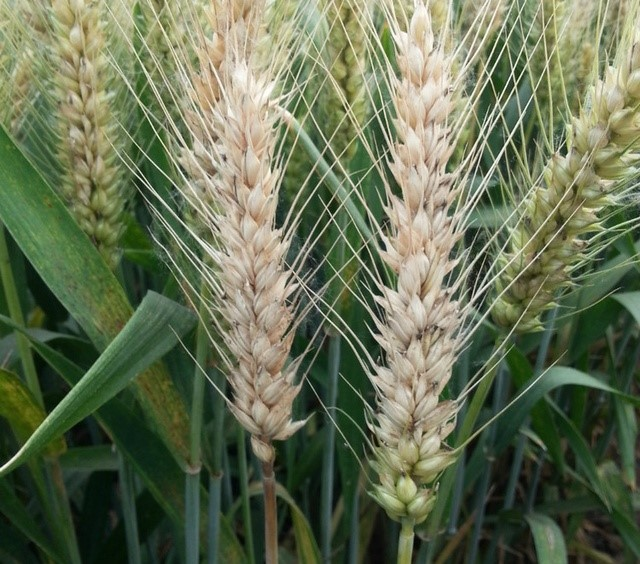Wheat scab: (206, 69, 305, 463), (354, 232, 474, 532)
